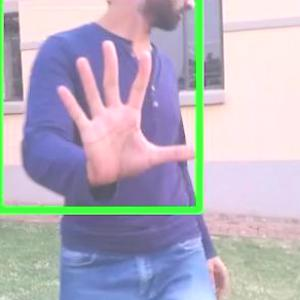follow_hand: (53, 34, 198, 194)
